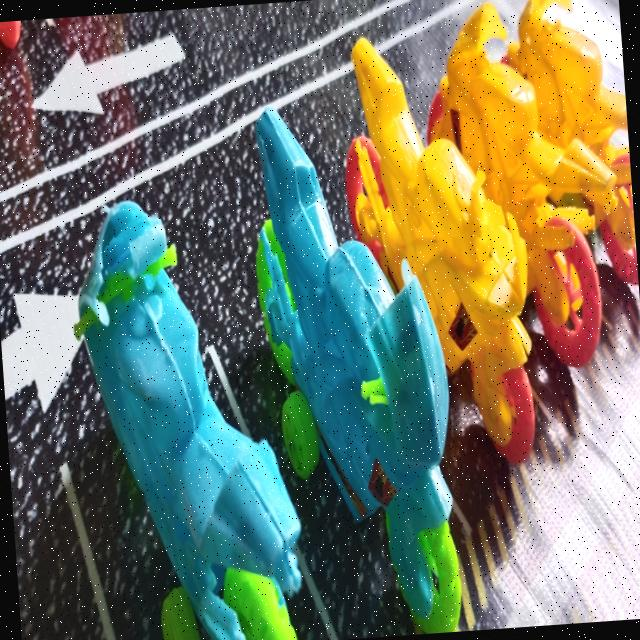occupied: (216, 110, 461, 639), (75, 201, 323, 640), (347, 39, 535, 521), (427, 3, 610, 427), (508, 0, 638, 300)
